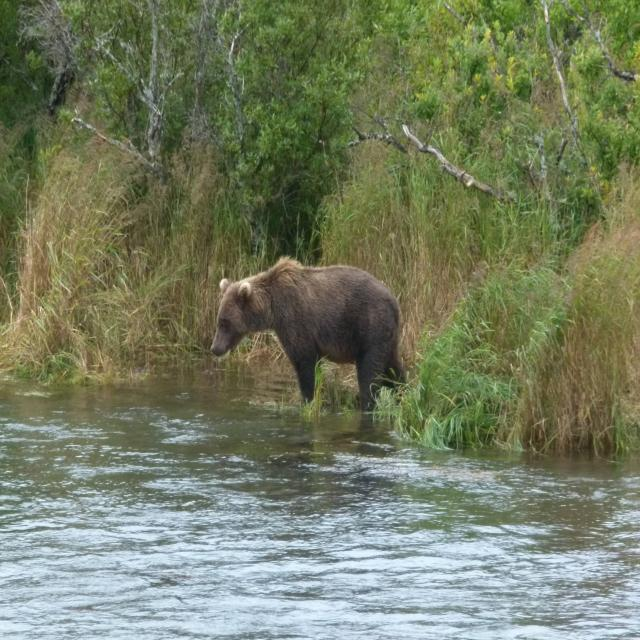bear face: (209, 259, 405, 397)
